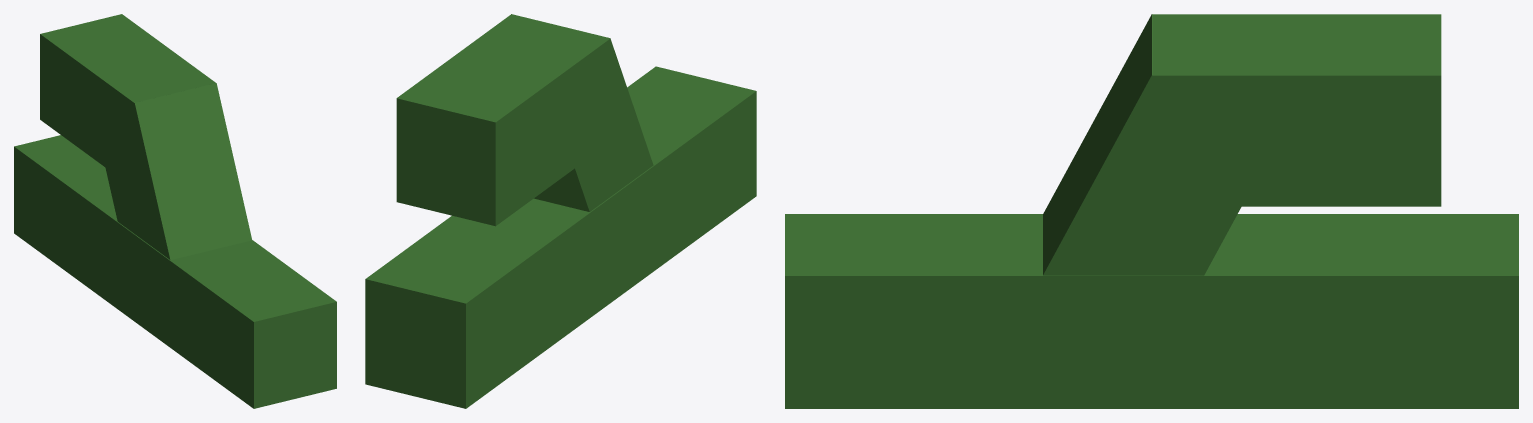
The model's file is Cacti.fbx.
The picture shows the model from 3 angles, left to right: view 1: azimuth 30°, elevation 25°; view 2: azimuth 150°, elevation 25°; view 3: azimuth 270°, elevation 25°; orthographic projection. The views are drawn at different scales.
Parts seen in each view (by area): view 1: Cactus; view 2: Cactus; view 3: Cactus.
Part boxes in pixels (box(x1,y1,x2,y2)): Cactus: box(14, 14, 336, 408); Cactus: box(365, 14, 756, 408); Cactus: box(785, 14, 1518, 408).
Bounding box in the file's own units: 50 × 125 × 250.
